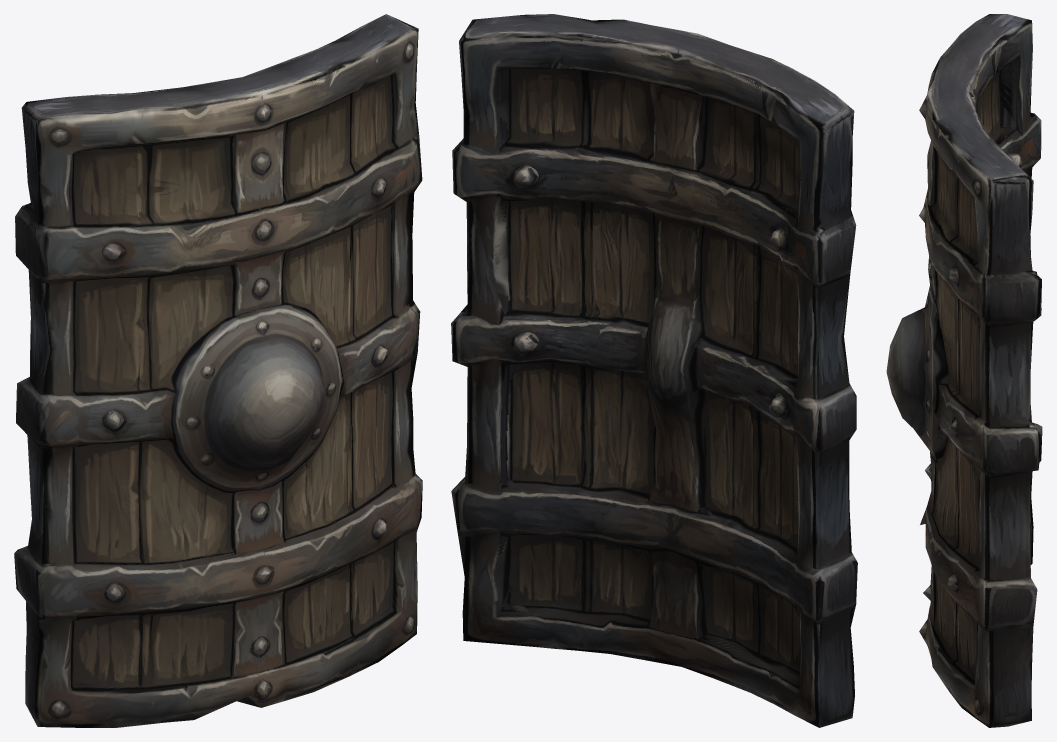
The model's file is Prop_Weapon_Greatshield.fbx.
The picture shows the model from 3 angles, left to right: view 1: azimuth 30°, elevation 25°; view 2: azimuth 150°, elevation 25°; view 3: azimuth 270°, elevation 25°; orthographic projection. The views are drawn at different scales.
Parts seen in each view (by area): view 1: texture_mapping; view 2: texture_mapping; view 3: texture_mapping.
Part boxes in pixels (x1,y1,x2,y2): texture_mapping: (14,14,422,727); texture_mapping: (451,14,857,727); texture_mapping: (886,14,1042,727).
Size of the model in its own units: 0.6529 by 0.2534 by 1.
Materials: 1 (1 with a texture image).
